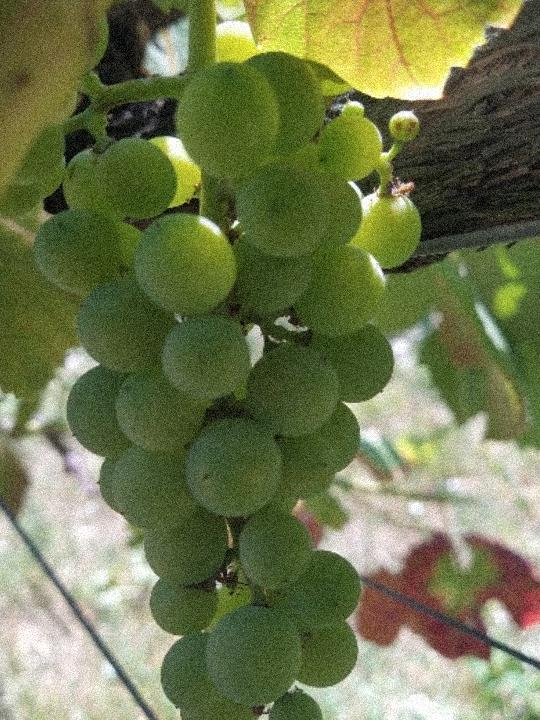grape: (0, 23, 424, 720)
